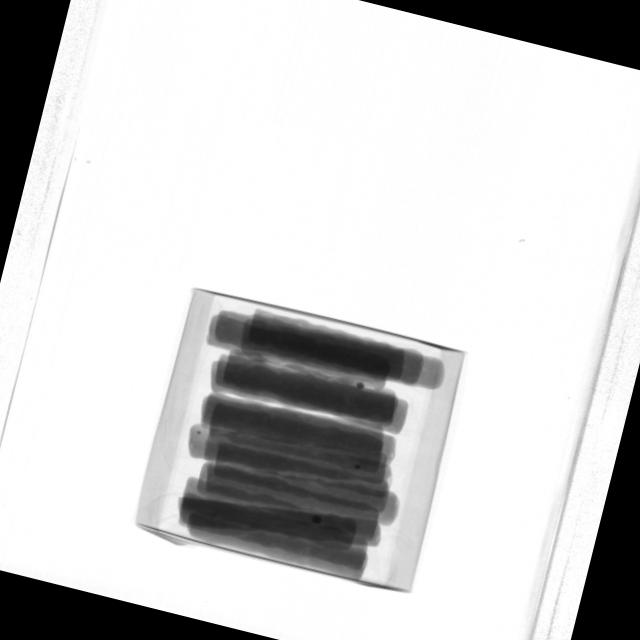ym: (312, 514, 323, 525), (356, 381, 366, 390), (353, 464, 360, 471), (197, 431, 202, 436)
